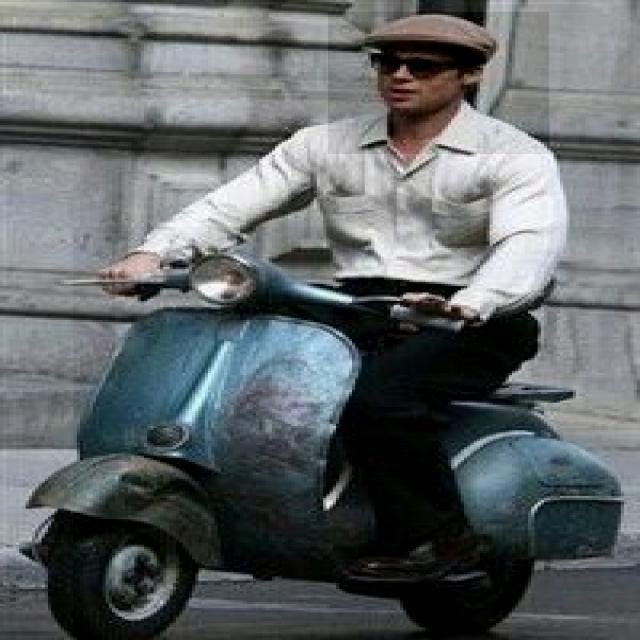Bike: (73, 227, 640, 640)
No_Helmet: (328, 12, 549, 154)
